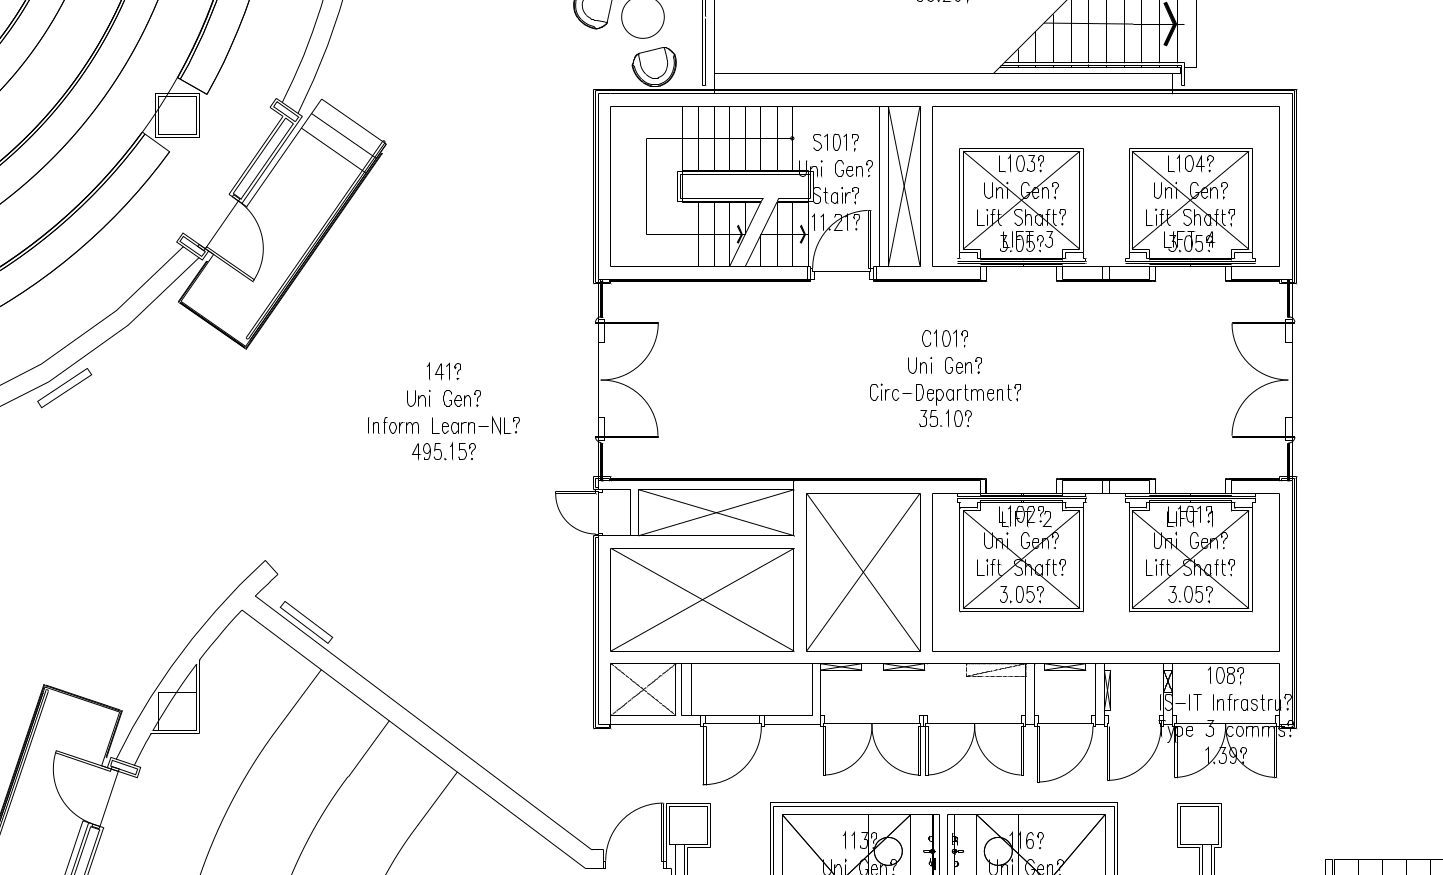door: (1227, 319, 1299, 451), (595, 317, 668, 443), (1170, 723, 1284, 789), (818, 723, 925, 788), (920, 723, 1027, 788), (41, 744, 120, 831), (208, 198, 274, 289), (807, 202, 873, 293), (694, 722, 768, 790), (603, 798, 666, 867), (1030, 723, 1096, 788), (1098, 722, 1164, 786), (551, 480, 598, 542)
